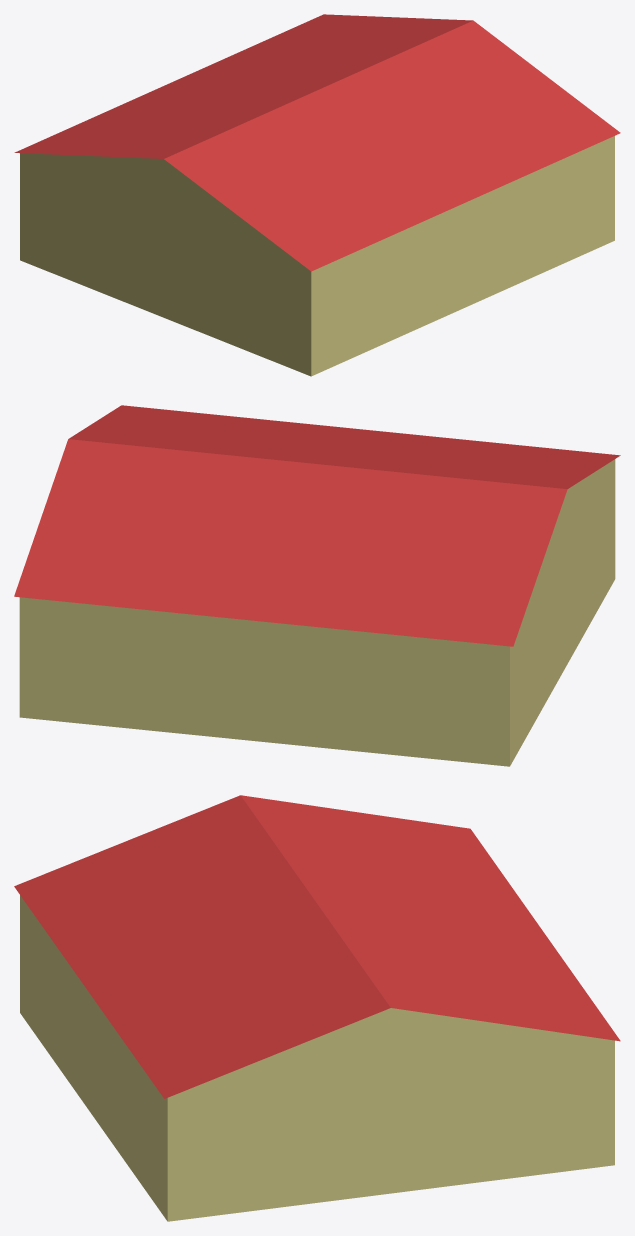
The picture shows the model from 3 angles, top to bottom: view 1: azimuth 30°, elevation 25°; view 2: azimuth 150°, elevation 25°; view 3: azimuth 270°, elevation 25°; orthographic projection. The views are drawn at different scales.
Size of the model in its own units: 32.96 by 31.27 by 10.67.
